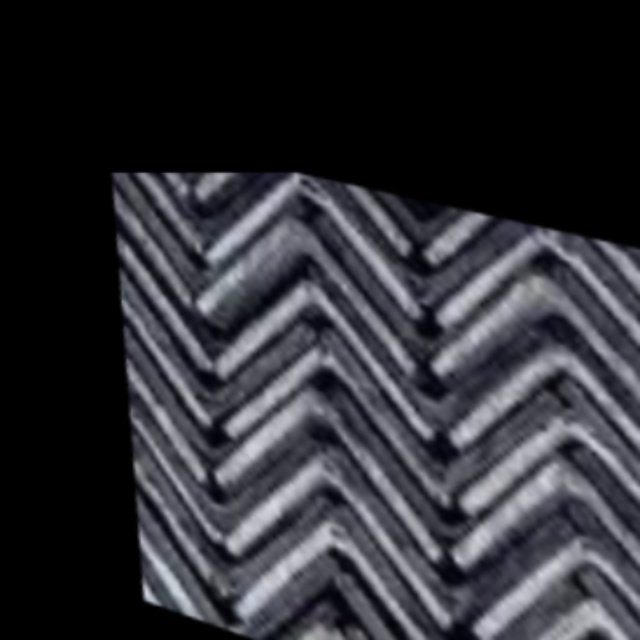Angle: (312, 450, 602, 640), (300, 278, 574, 447), (314, 342, 587, 511), (210, 441, 459, 615), (409, 264, 640, 446), (427, 442, 640, 639), (201, 376, 447, 542), (422, 326, 640, 510), (435, 392, 640, 581), (176, 206, 424, 360), (410, 211, 640, 377), (294, 176, 562, 314), (322, 512, 609, 640), (118, 447, 345, 606), (218, 502, 473, 640), (308, 226, 545, 374), (191, 173, 434, 308), (119, 501, 354, 640), (108, 285, 328, 428), (119, 401, 333, 546), (418, 202, 640, 312), (451, 517, 640, 640), (318, 179, 541, 258), (137, 555, 332, 640), (536, 275, 640, 430), (548, 390, 640, 559), (198, 173, 412, 242), (111, 404, 229, 529), (560, 447, 640, 629), (99, 239, 221, 357), (550, 337, 640, 491), (104, 293, 215, 409), (553, 235, 640, 373), (96, 185, 205, 295), (107, 345, 209, 462), (122, 511, 226, 625), (454, 578, 640, 640), (566, 518, 640, 640), (103, 173, 206, 237), (567, 578, 640, 640)
